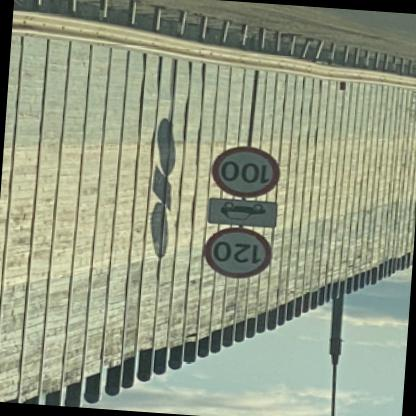speedlimit: (210, 146, 284, 202), (204, 226, 278, 282)
